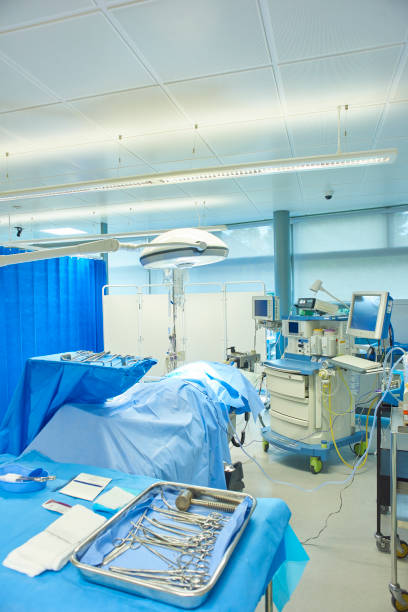bedside_monitor: (252, 296, 277, 321), (282, 320, 306, 338)
computer: (346, 290, 390, 342)
curtain: (1, 247, 108, 432)
keyboard: (331, 352, 383, 371)
operating_bed: (13, 364, 263, 481)
surgical_instrument: (1, 459, 256, 607), (53, 351, 156, 373)
surgical_light: (135, 226, 232, 272)
utility_cart: (1, 458, 294, 612), (22, 350, 150, 404)
ventilator: (262, 303, 362, 471)
